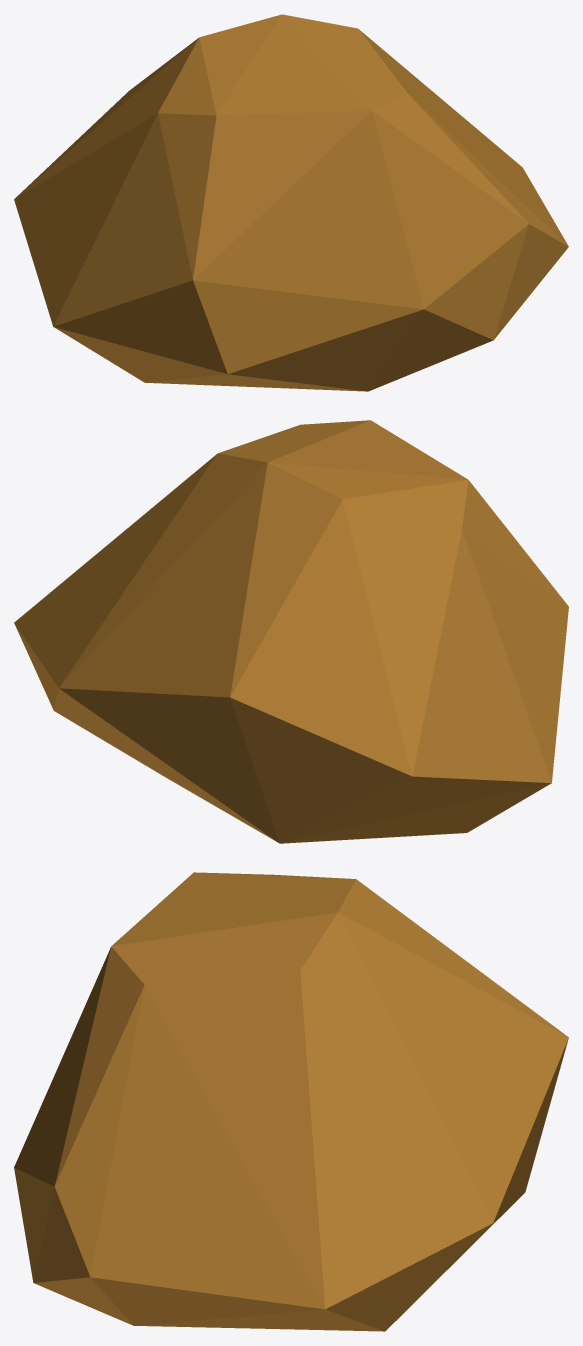
File: Mosh 07.FBX
3 renders of one model, top to bottom at view 1: azimuth 30°, elevation 25°; view 2: azimuth 150°, elevation 25°; view 3: azimuth 270°, elevation 25°, orthographic. The views are drawn at different scales.
Visible parts, largest first — view 1: cube; view 2: cube; view 3: cube.
Part boxes in pixels (x1,y1,x2,y2): cube: (14, 14, 568, 391); cube: (14, 420, 568, 843); cube: (14, 872, 568, 1331).
Size of the model in its own units: 81.96 by 51.27 by 66.61.
